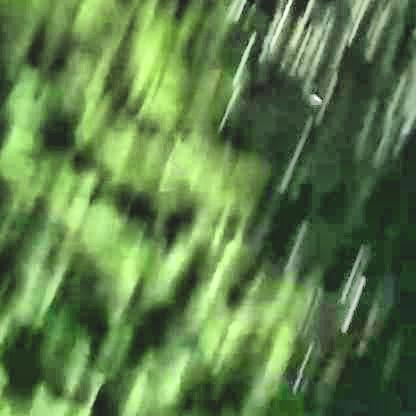golfball: (308, 86, 319, 104)
